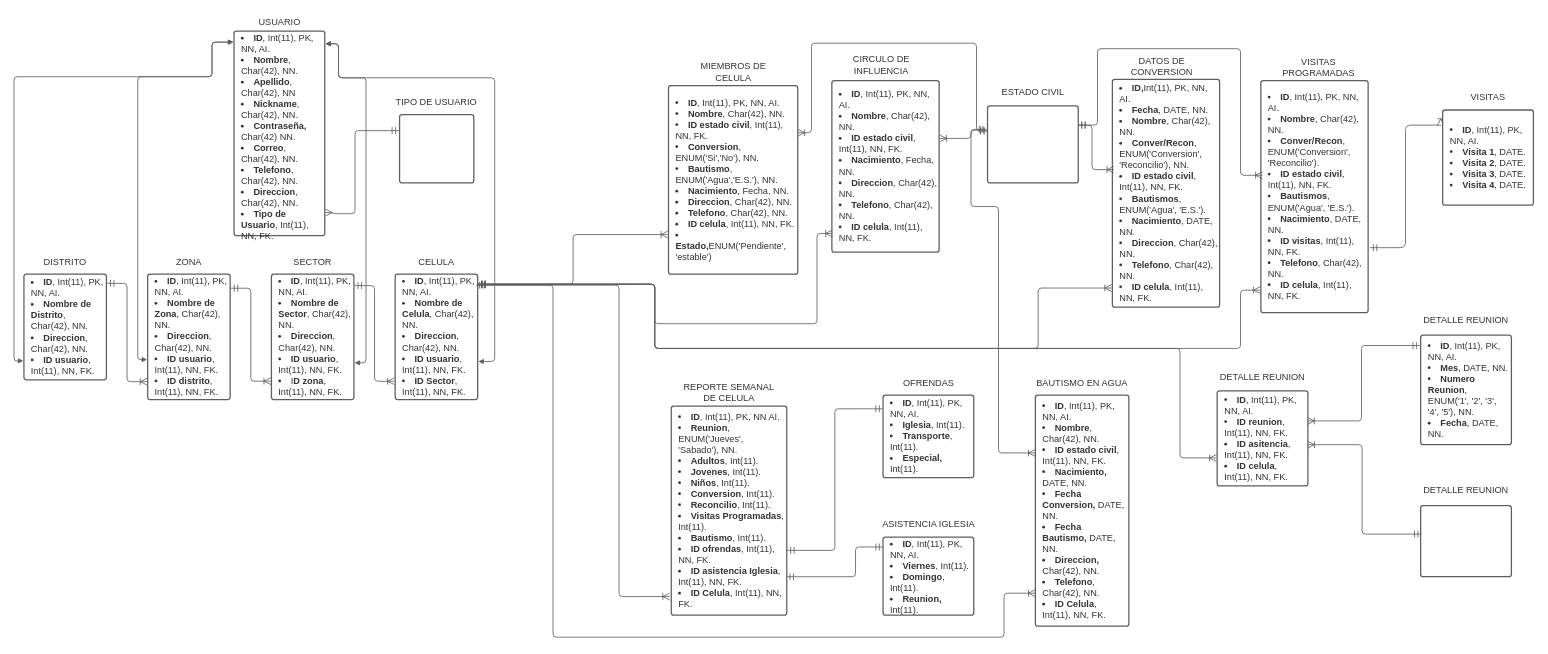
Some shapes in this 1548 by 654 pixel diagram are drawn without their labels. The shapes that lost their labels are listed below. From the top down, each one's box as (x1, y1, x2, y2) in pixels, then its label:
(872, 9, 1129, 49): DOCUMENTOS CELULAS
(399, 114, 474, 183): ID , Int(11), PK, NN, AI. Cargo , Char(42), NN.
(987, 105, 1079, 183): ID , Int(11), PK, NN, AI. Estado Civil , Bit(1), NN.
(1420, 505, 1512, 577): ID , Int(11), PK, NN, AI. Nombre , Char(42), NN.
